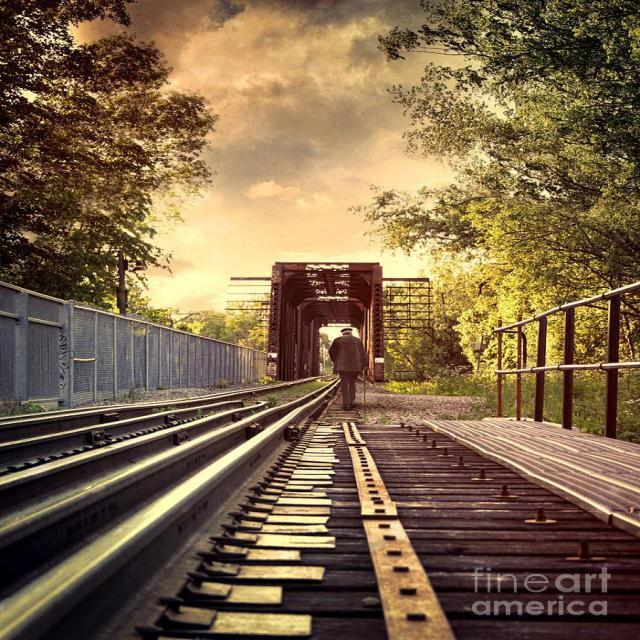rail: (1, 371, 357, 640)
